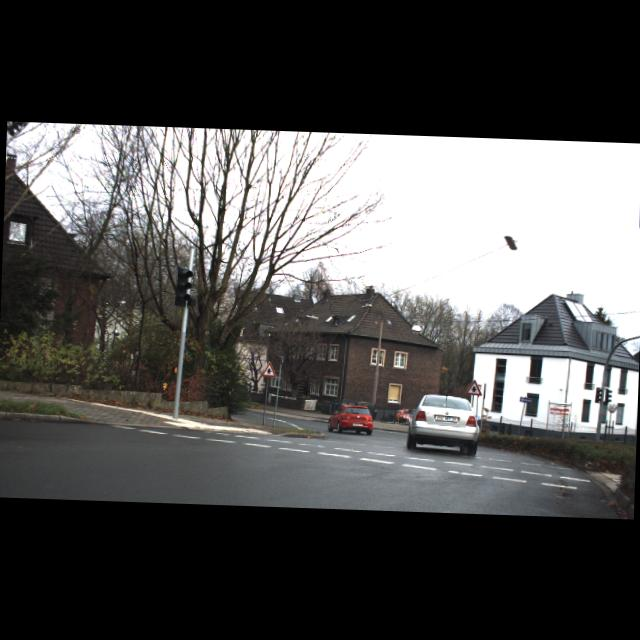danger: (464, 379, 483, 396), (260, 361, 278, 378)
